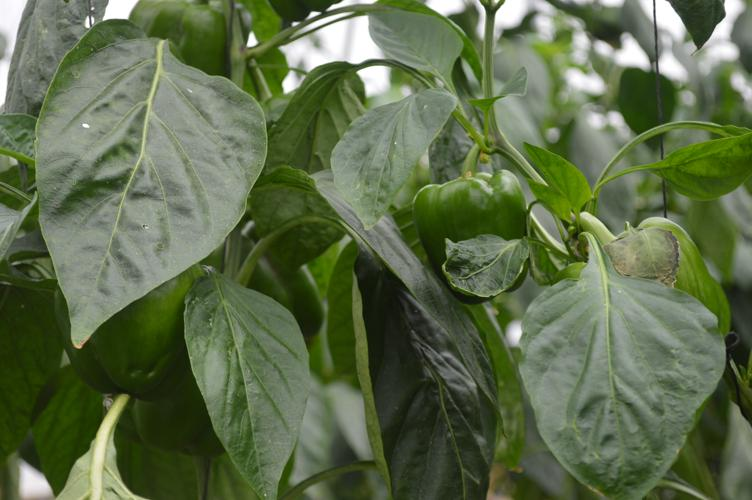BellPepper: (50, 267, 204, 407), (407, 165, 539, 309)
